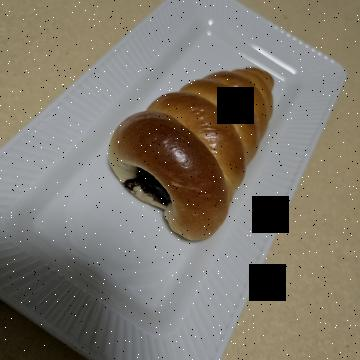cream horn: (34, 68, 248, 270)
